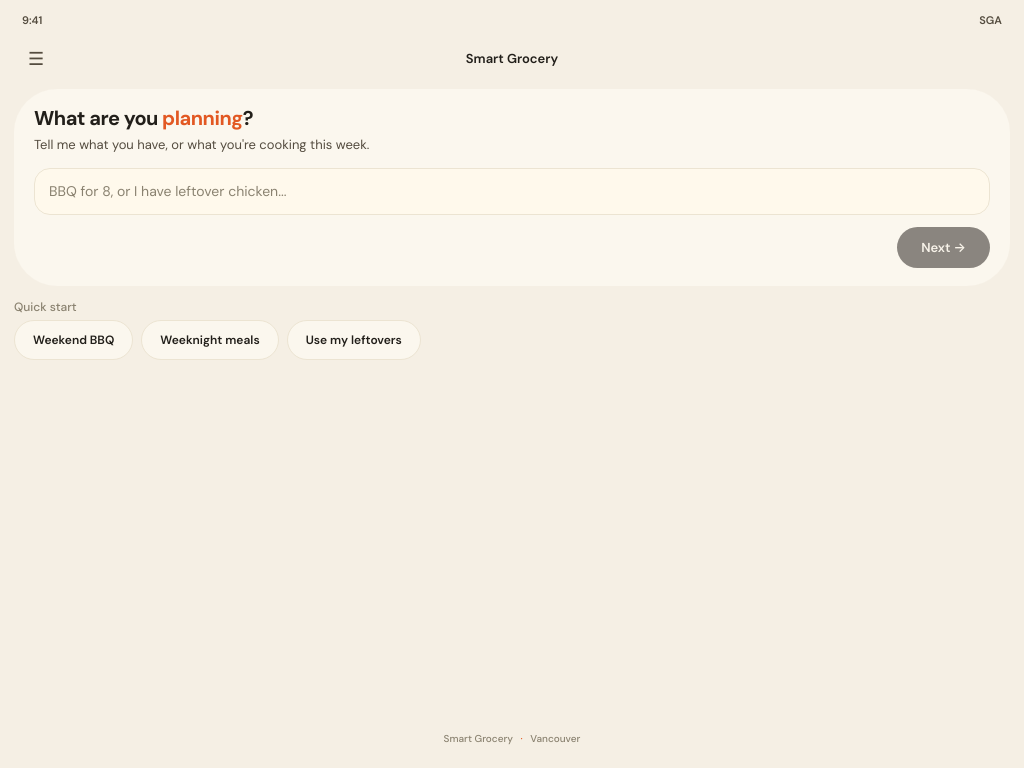
HomeScreen — Next button gates on non-empty input › is disabled when input is empty and enabled once user types
This screenshot has width=1024, height=768.
Expected: the button "Next →" is disabled, x1=897 y1=227 x2=990 y2=268
Type "Meal prep" into the field with placeholder "BBQ for 8, or I have leftover chicken..." at (512, 191), box x1=34 y1=168 x2=990 y2=215
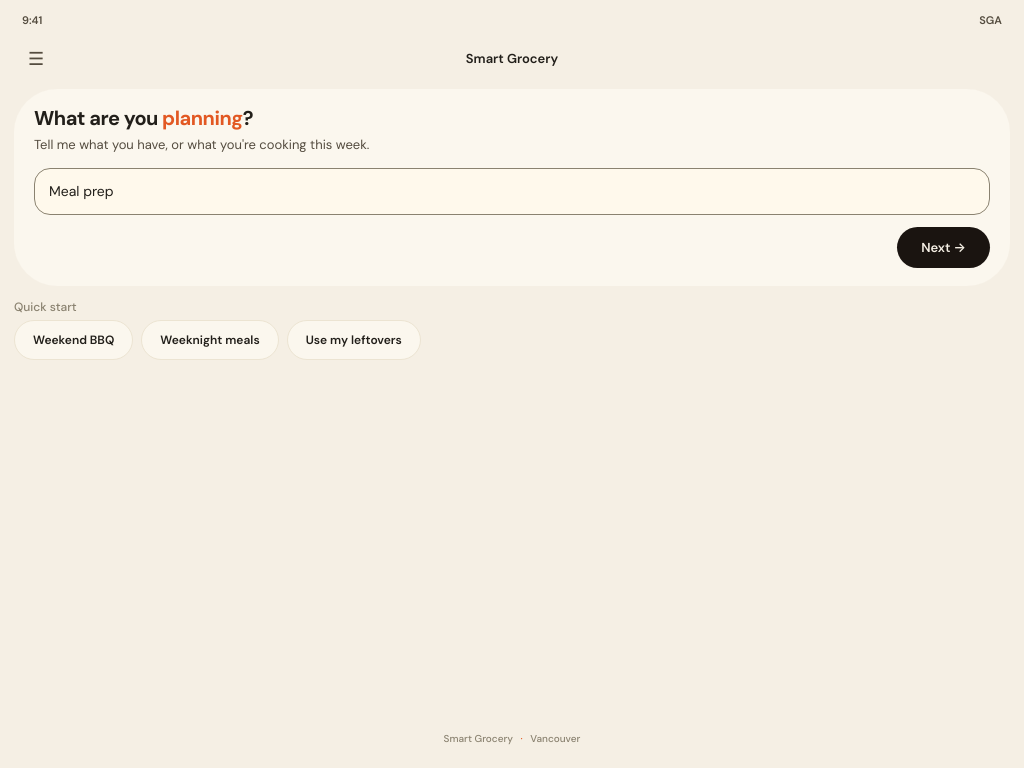
Expected: the button "Next →" is enabled, x1=897 y1=227 x2=990 y2=268
